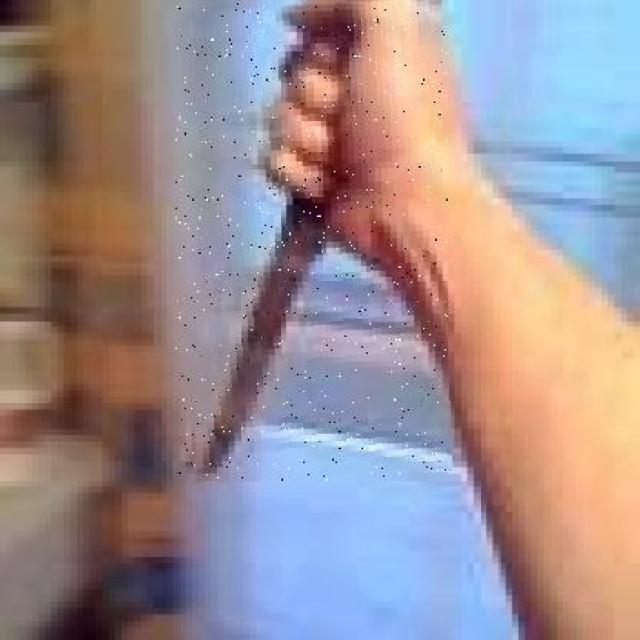knife: (175, 2, 448, 480)
